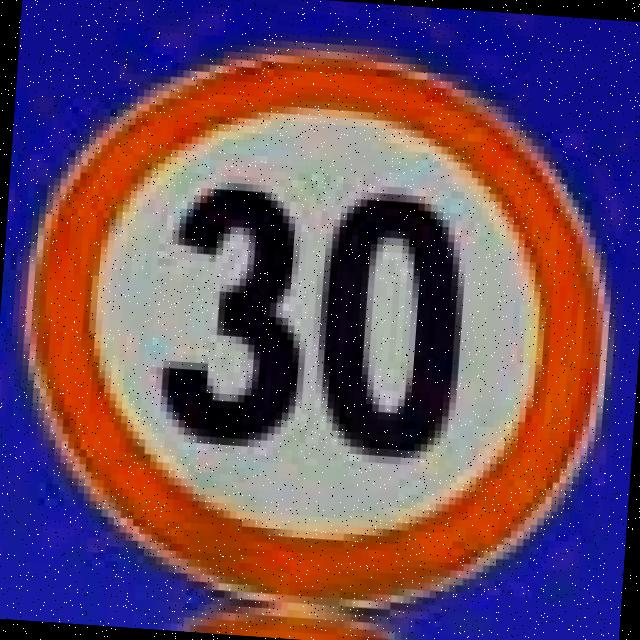Ograniczenie predkosci do 30: (6, 31, 626, 624)
